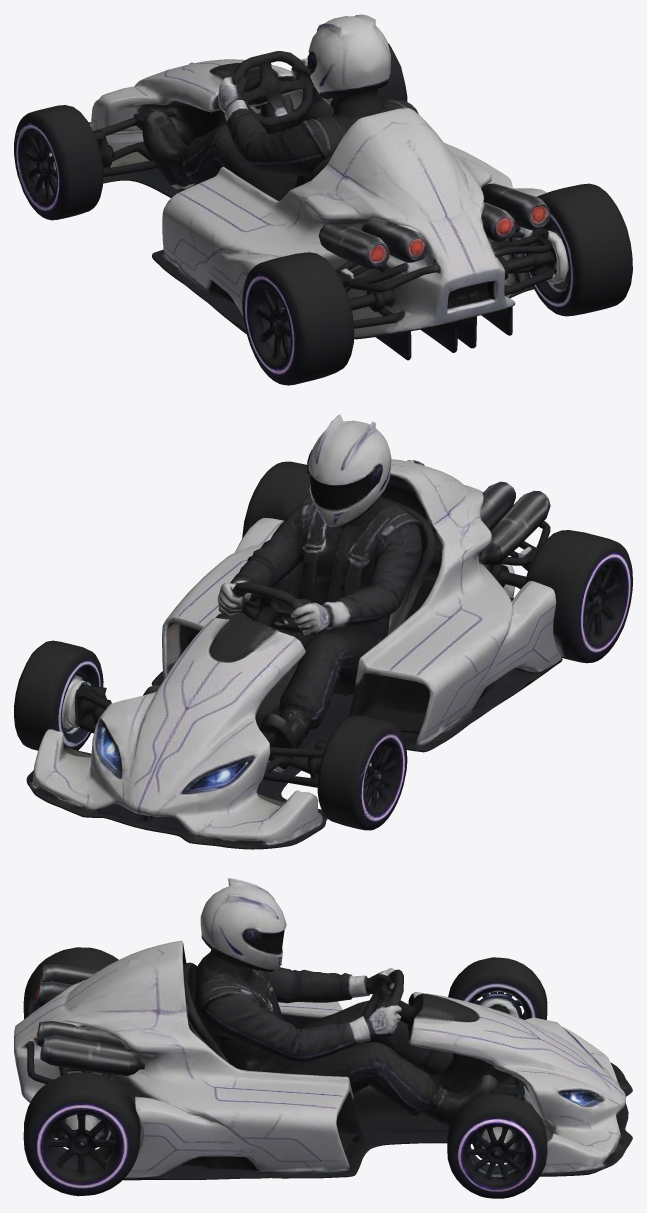
Rendered from zenflow-final.glb.
The picture shows the model from 3 angles, top to bottom: view 1: azimuth 30°, elevation 25°; view 2: azimuth 150°, elevation 25°; view 3: azimuth 270°, elevation 25°; orthographic projection. The views are drawn at different scales.
Visible parts, largest first — view 1: chassis, wheel-rl, wheel-fl, wheel-rr, wheel-fr; view 2: chassis, wheel-rl, wheel-fl, wheel-fr, wheel-rr; view 3: chassis, wheel-rr, wheel-fr, wheel-fl, wheel-rl.
Boxes of the visible parts, left/top/right/bottom form: chassis: left=89, top=14, right=632, bottom=368; wheel-rl: left=242, top=252, right=354, bottom=385; wheel-fl: left=14, top=105, right=103, bottom=220; wheel-rr: left=504, top=183, right=631, bottom=316; wheel-fr: left=377, top=43, right=407, bottom=101; chassis: left=26, top=414, right=554, bottom=849; wheel-rl: left=522, top=530, right=632, bottom=668; wheel-fl: left=317, top=715, right=407, bottom=830; wheel-fr: left=14, top=640, right=103, bottom=750; wheel-rr: left=242, top=461, right=310, bottom=538; chassis: left=14, top=878, right=632, bottom=1180; wheel-rr: left=27, top=1072, right=160, bottom=1196; wheel-fr: left=447, top=1093, right=547, bottom=1198; wheel-fl: left=448, top=957, right=547, bottom=1019; wheel-rl: left=25, top=947, right=118, bottom=1017.
Size of the model in its own units: 2.67 by 1.92 by 4.5.
Materials: 1 (1 with a texture image).
